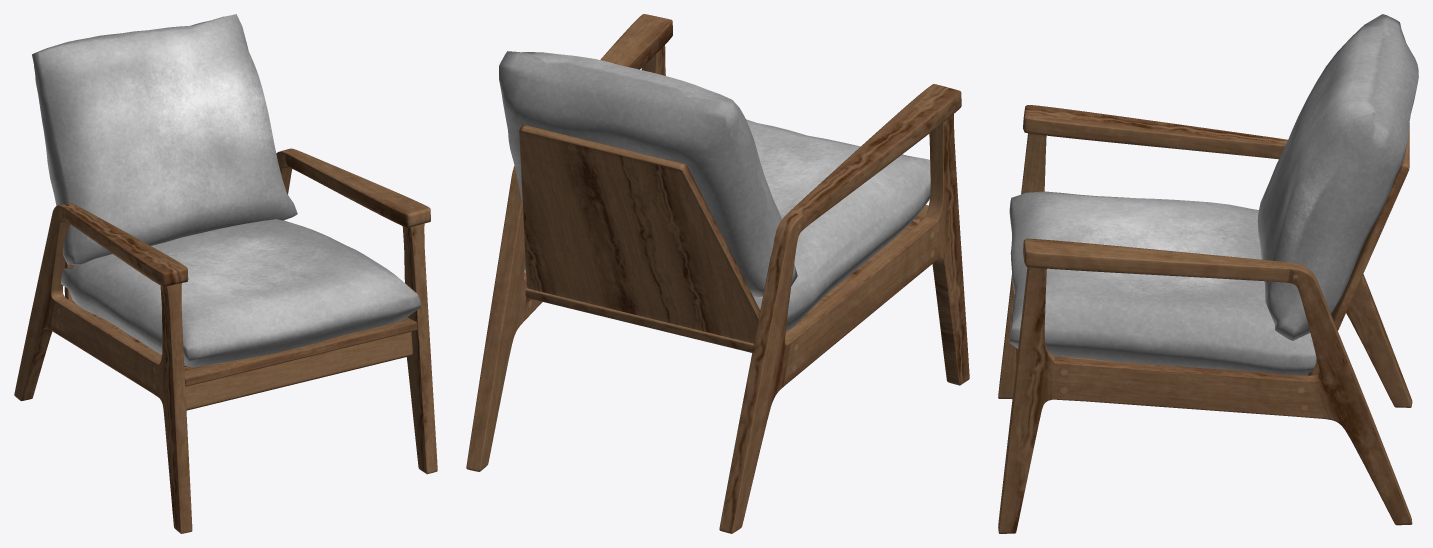
File: armchair-oak-leather.glb
3 views of the same model, side by side, from view 1: azimuth 30°, elevation 25°; view 2: azimuth 150°, elevation 25°; view 3: azimuth 270°, elevation 25° (orthographic). The views are drawn at different scales.
Parts seen in each view (by area): view 1: armchair-oak-leather; view 2: armchair-oak-leather; view 3: armchair-oak-leather.
Part boxes in pixels (<box>): armchair-oak-leather: <box>14,14,437,533</box>; armchair-oak-leather: <box>466,14,969,533</box>; armchair-oak-leather: <box>998,14,1418,533</box>.
Bounding box in the file's own units: 0.8203 × 1.02 × 0.9866.
Materials: 2 (2 with a texture image).
